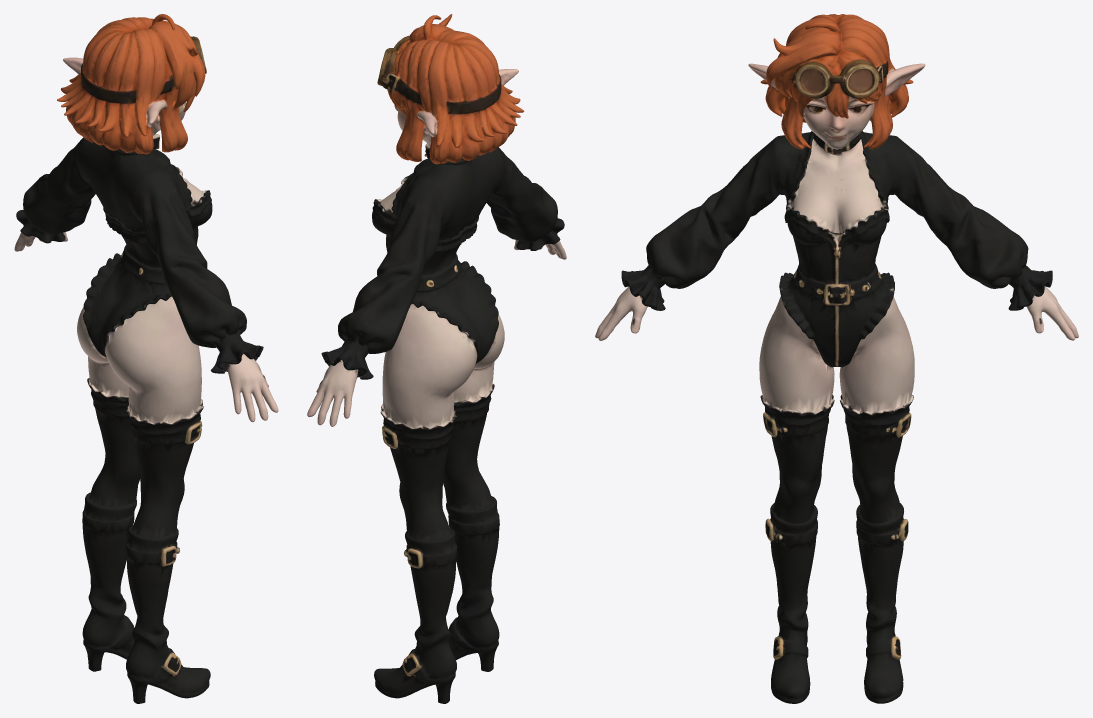
Rendered from aiprintgen_Steampunk Elf Girl with Goggles-preview.glb.
The picture shows the model from 3 angles, left to right: view 1: azimuth 30°, elevation 25°; view 2: azimuth 150°, elevation 25°; view 3: azimuth 270°, elevation 25°; orthographic projection. The views are drawn at different scales.
Visible parts, largest first — view 1: aiprintgen_node_ab4ef320-3d47-49e2-9c2e-be3038b82c10; view 2: aiprintgen_node_ab4ef320-3d47-49e2-9c2e-be3038b82c10; view 3: aiprintgen_node_ab4ef320-3d47-49e2-9c2e-be3038b82c10.
Boxes of the visible parts, x1,y1,x2,y2 form: aiprintgen_node_ab4ef320-3d47-49e2-9c2e-be3038b82c10: [14, 14, 278, 703]; aiprintgen_node_ab4ef320-3d47-49e2-9c2e-be3038b82c10: [307, 14, 566, 703]; aiprintgen_node_ab4ef320-3d47-49e2-9c2e-be3038b82c10: [595, 14, 1078, 703].
Bounding box in the file's own units: 0.2031 × 0.9999 × 0.6537.
Materials: 1 (1 with a texture image).
